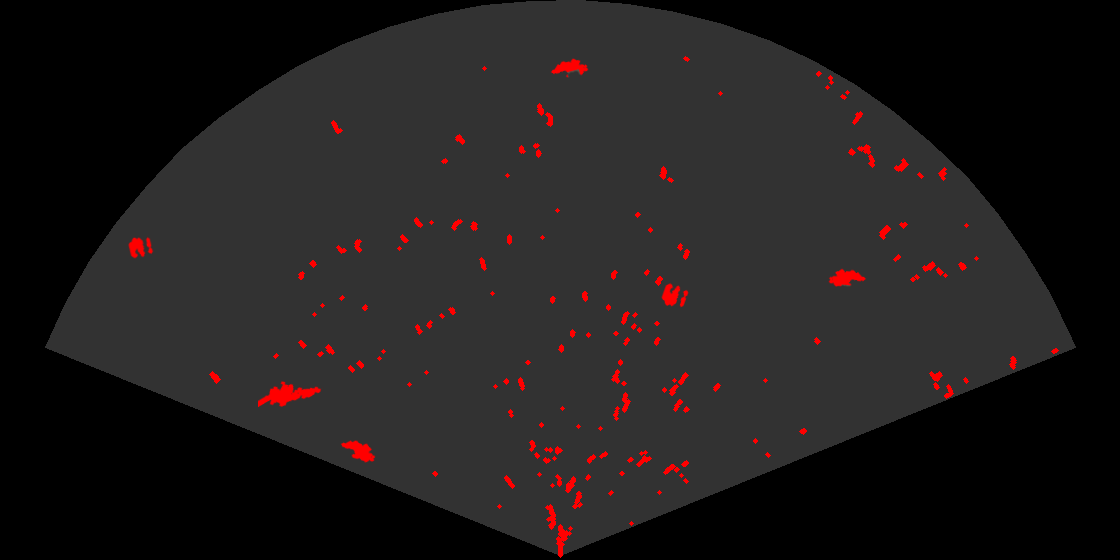AUV: (339, 439, 377, 464), (549, 57, 590, 79), (827, 267, 868, 288)
ball: (660, 281, 690, 309), (127, 235, 155, 260)
frogman: (258, 380, 323, 409)
